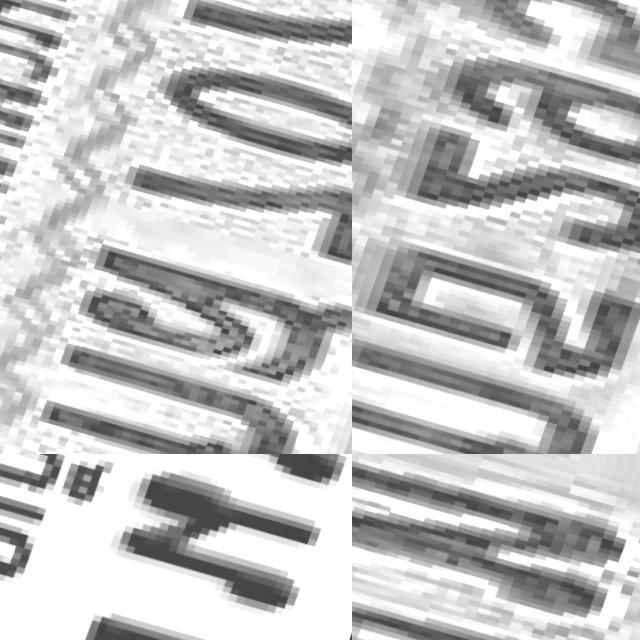license-plate: (0, 0, 352, 454), (352, 0, 640, 454), (0, 454, 352, 640), (352, 454, 640, 640)
